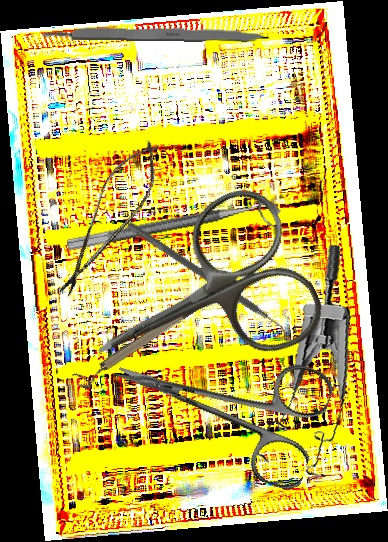Fixation Ring: (65, 196, 285, 270), (71, 293, 214, 393)
Iris Scissors: (60, 176, 334, 425), (99, 309, 338, 494)
Micro Scissor: (44, 128, 175, 310)
Scalpel Handle: (38, 23, 272, 44)
Spatula Surgical: (121, 220, 295, 342)
Speculum: (231, 244, 370, 485)
